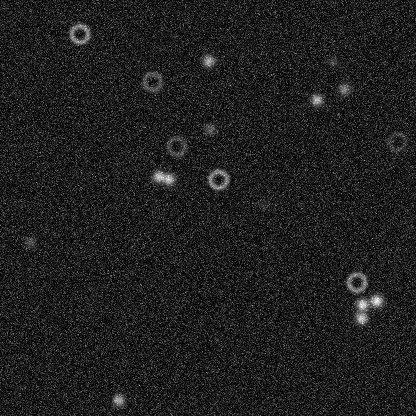Ring: (164, 134, 188, 158), (67, 21, 91, 45), (140, 69, 164, 93), (206, 167, 230, 191), (384, 129, 408, 153), (344, 270, 368, 294)
Spot: (335, 81, 351, 97), (308, 91, 324, 107), (354, 296, 370, 312), (150, 168, 166, 184), (110, 392, 126, 408), (201, 121, 217, 137), (160, 171, 176, 187), (368, 292, 384, 308), (200, 52, 216, 68), (21, 233, 37, 249), (255, 196, 271, 212), (325, 53, 341, 69), (353, 310, 369, 326)
